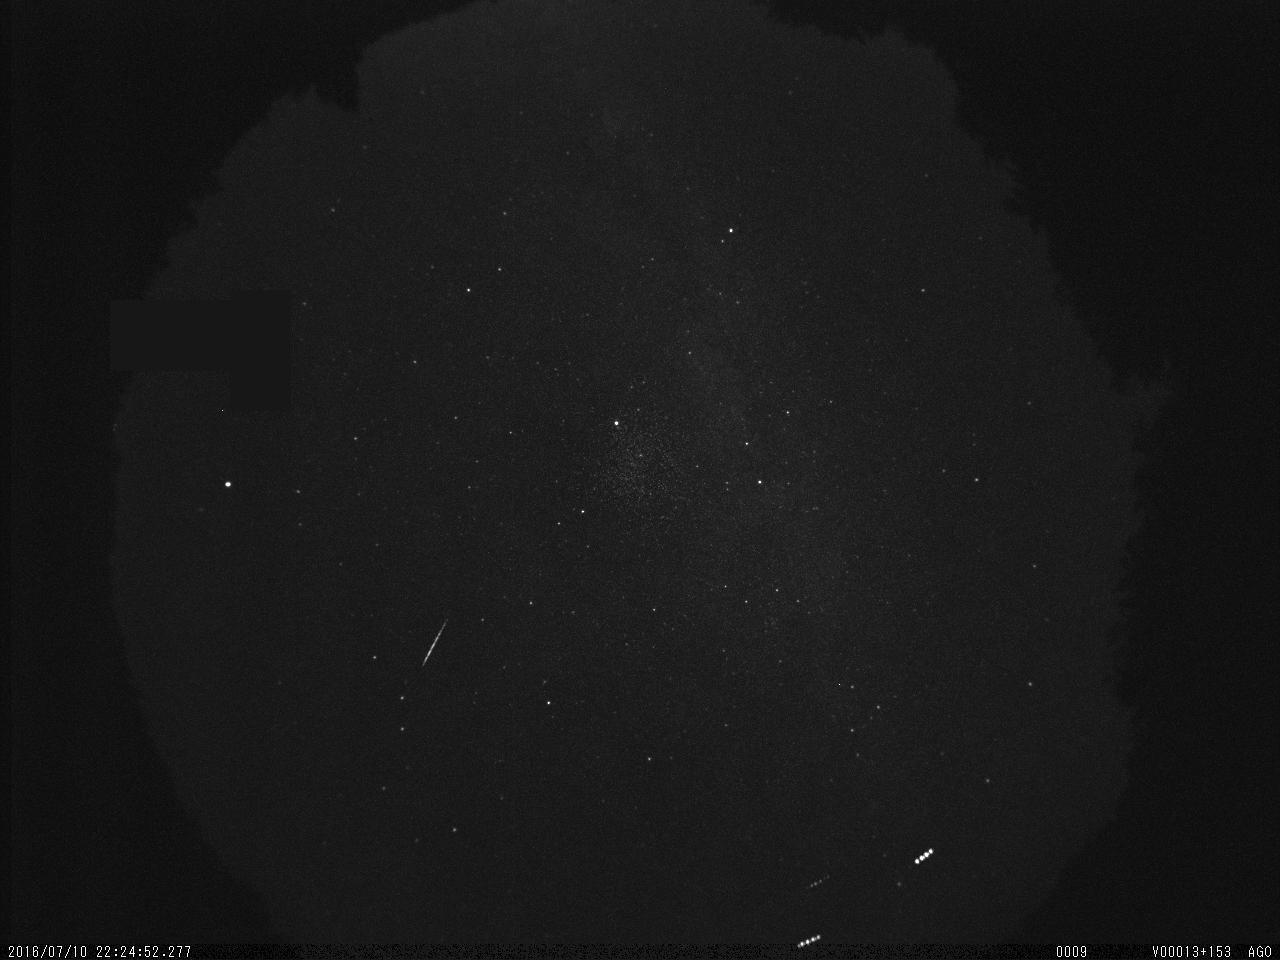meteor: (413, 608, 456, 675)
satelite: (909, 842, 942, 871), (791, 932, 826, 954)
